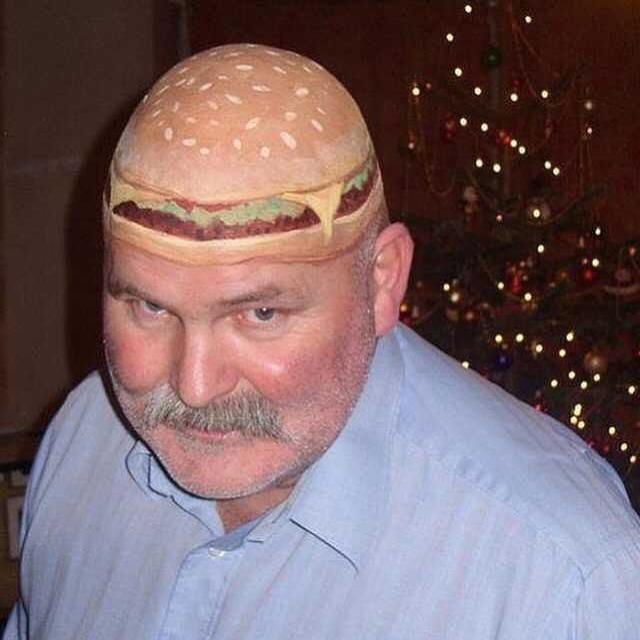no_helmet: (96, 28, 409, 293)
